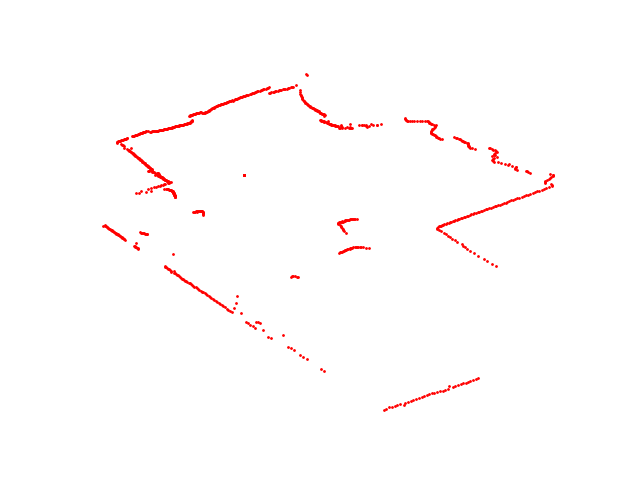person: (335, 216, 375, 260)
